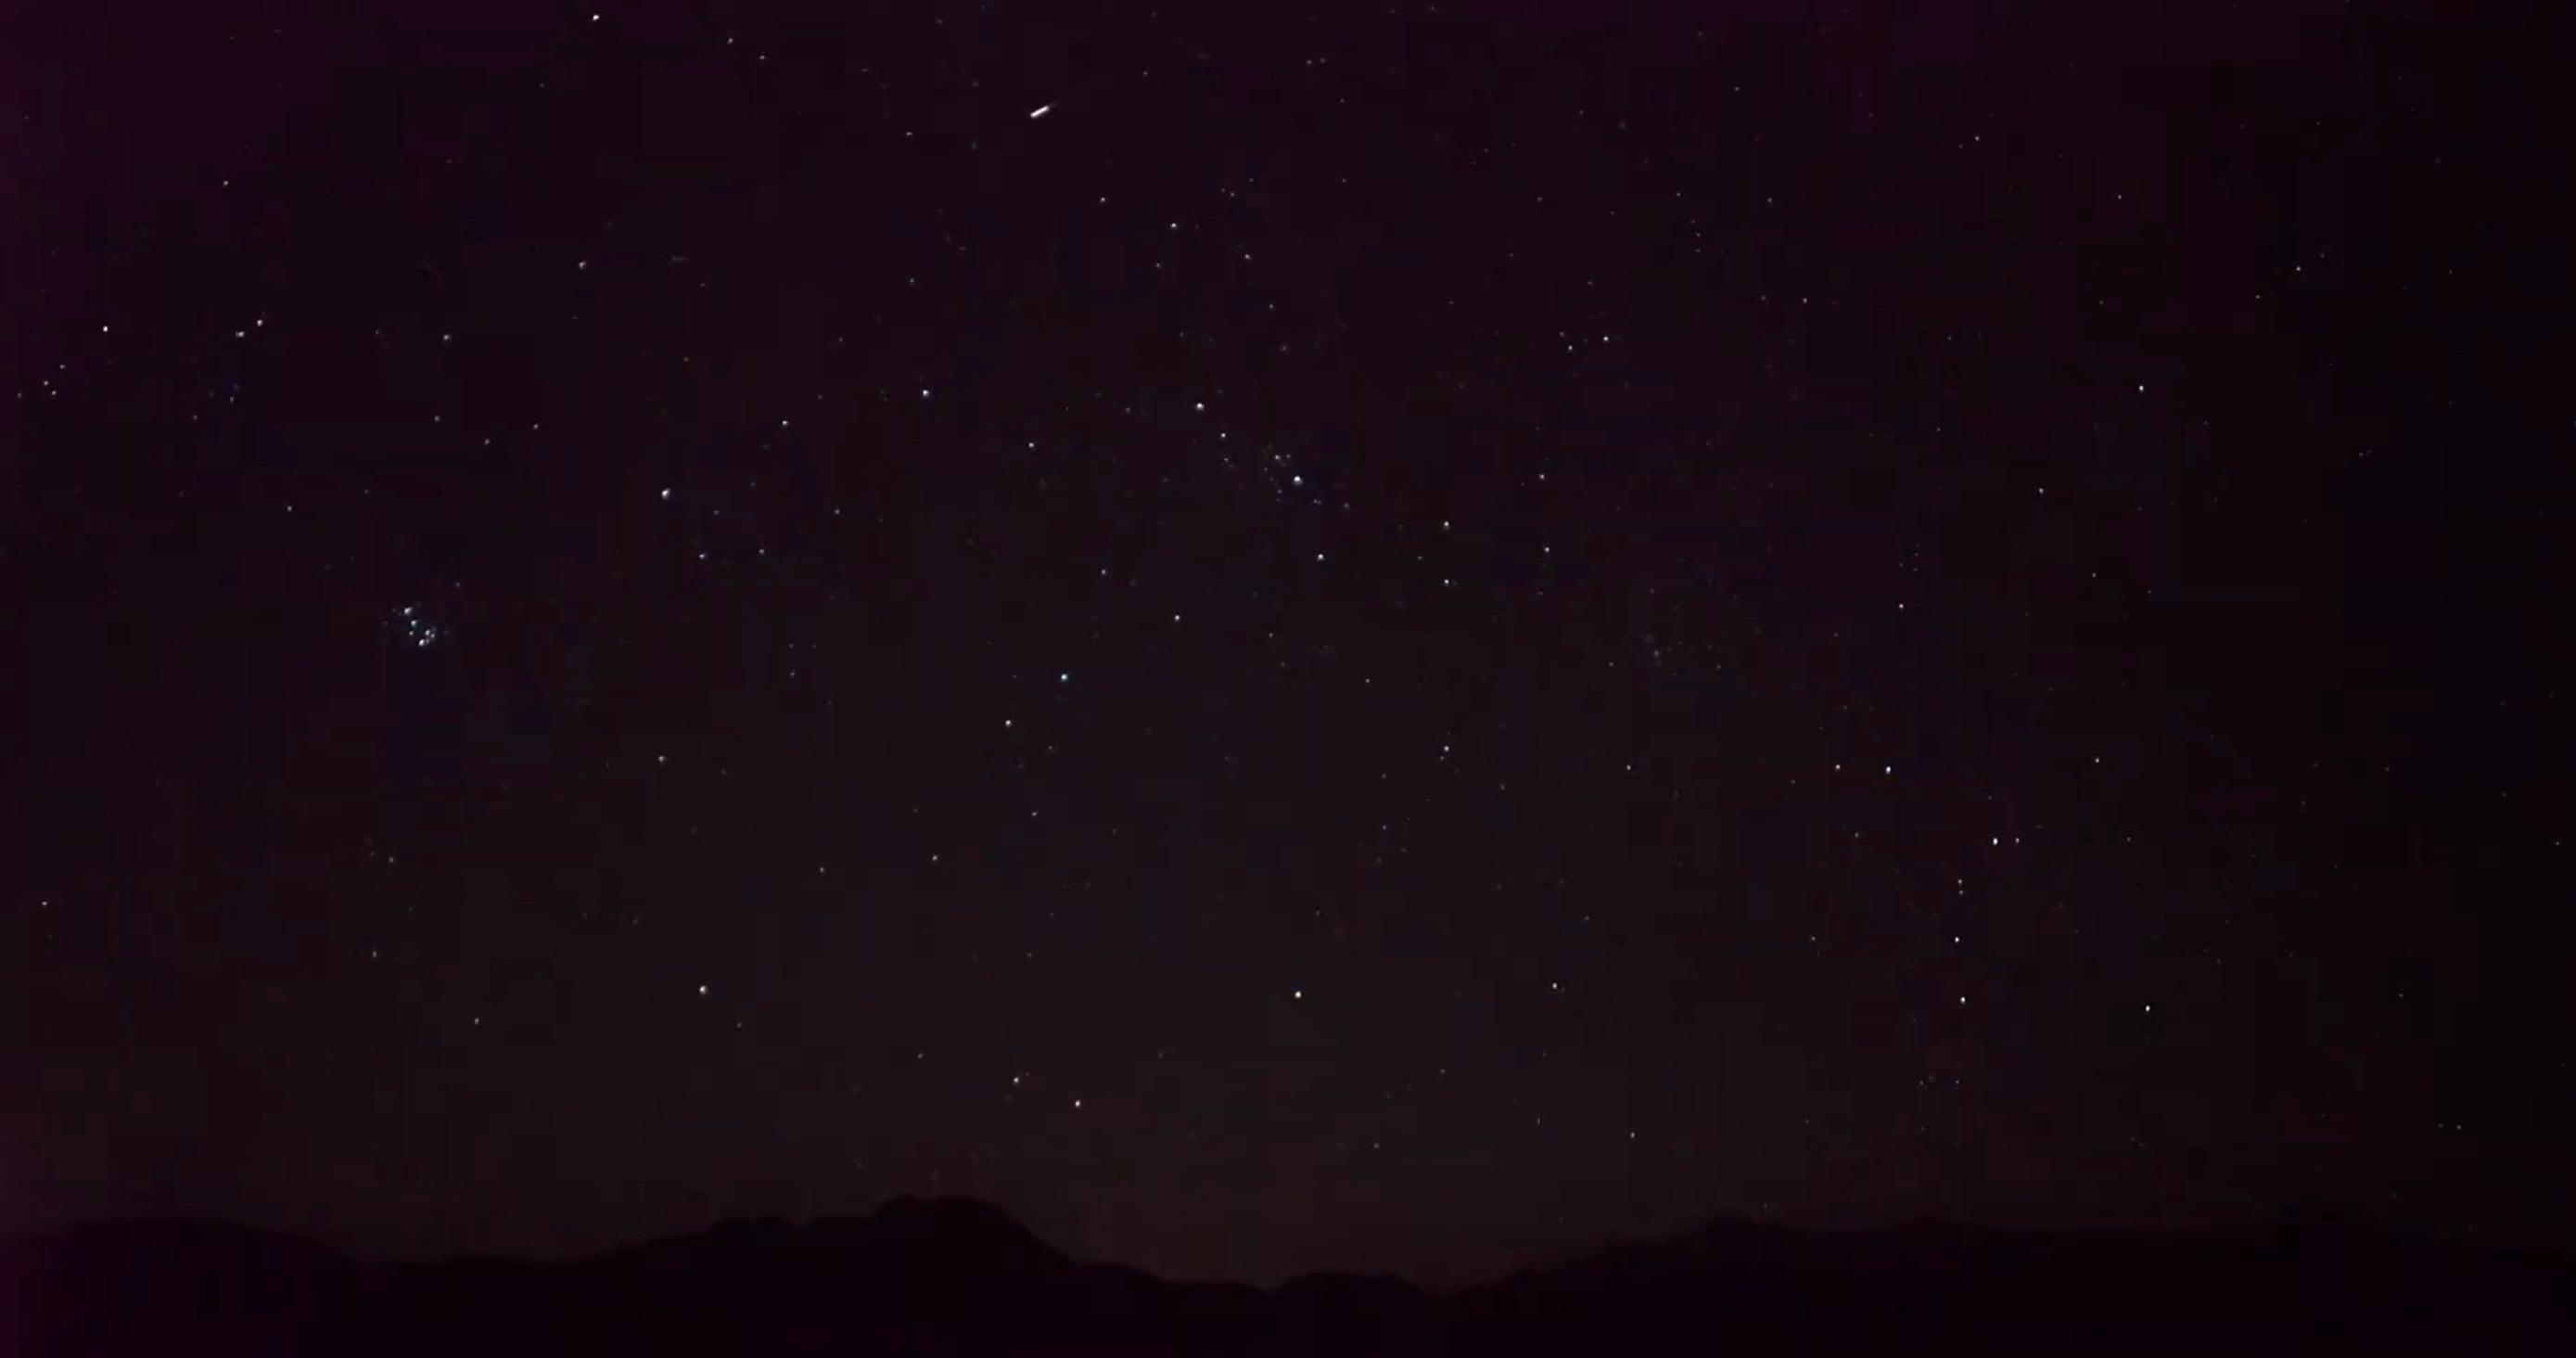meteorite: (1009, 80, 1073, 128)
